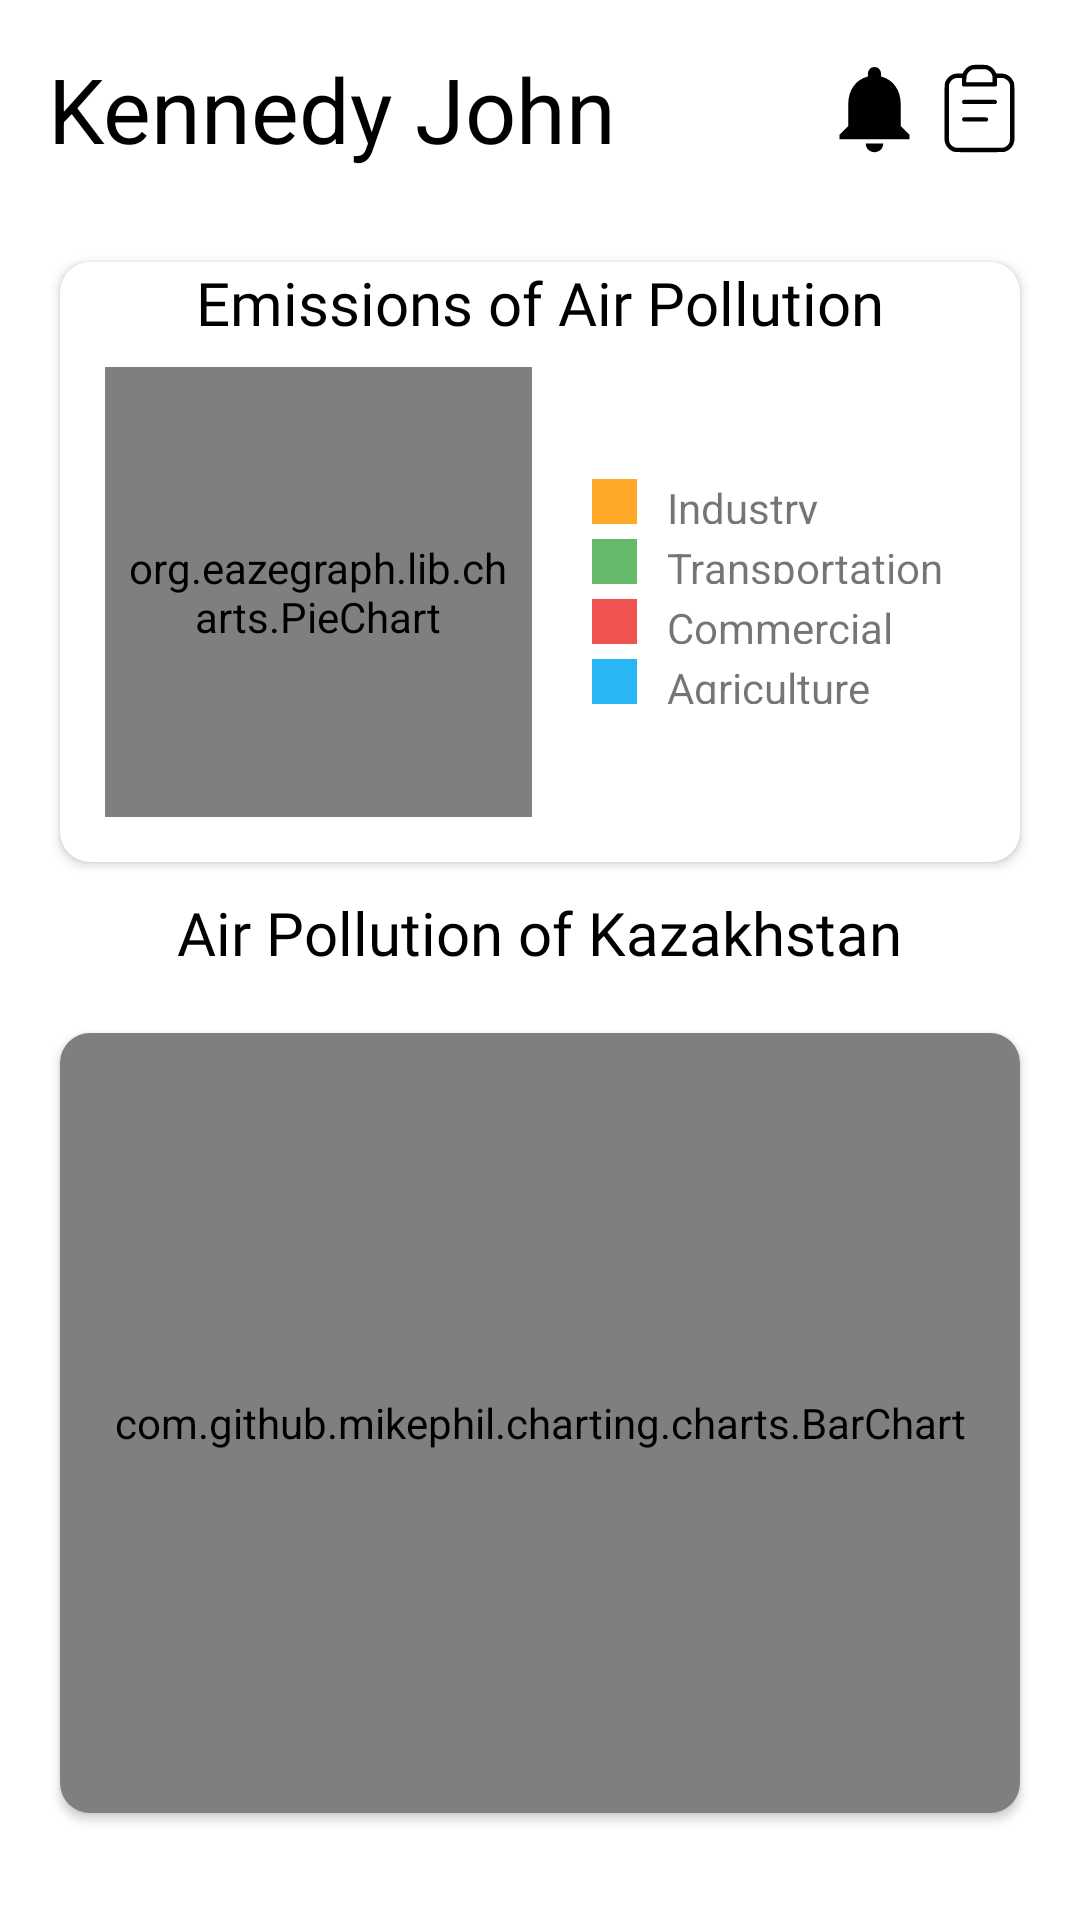

Icon click points for this 1080 × 1920 phone screenshot, format point (x, y):
notifications: point (874, 110)
task: point (979, 108)
